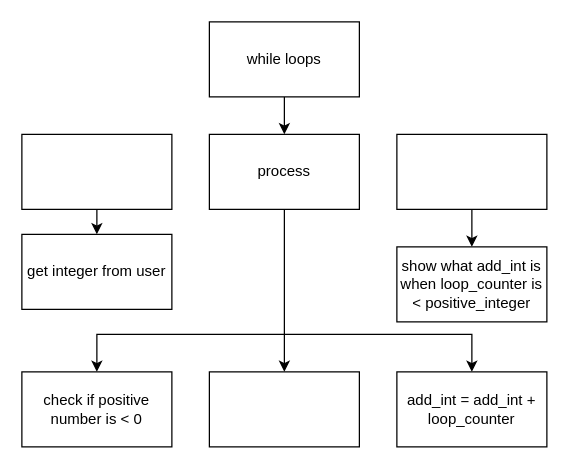
This 569x469 diagram has some shape labels left out. The centre of each missing label's shape, as x and y in pixels:
input: [96,171]
loop_counter = loop_counter + 1: [283,409]
output: [471,171]
